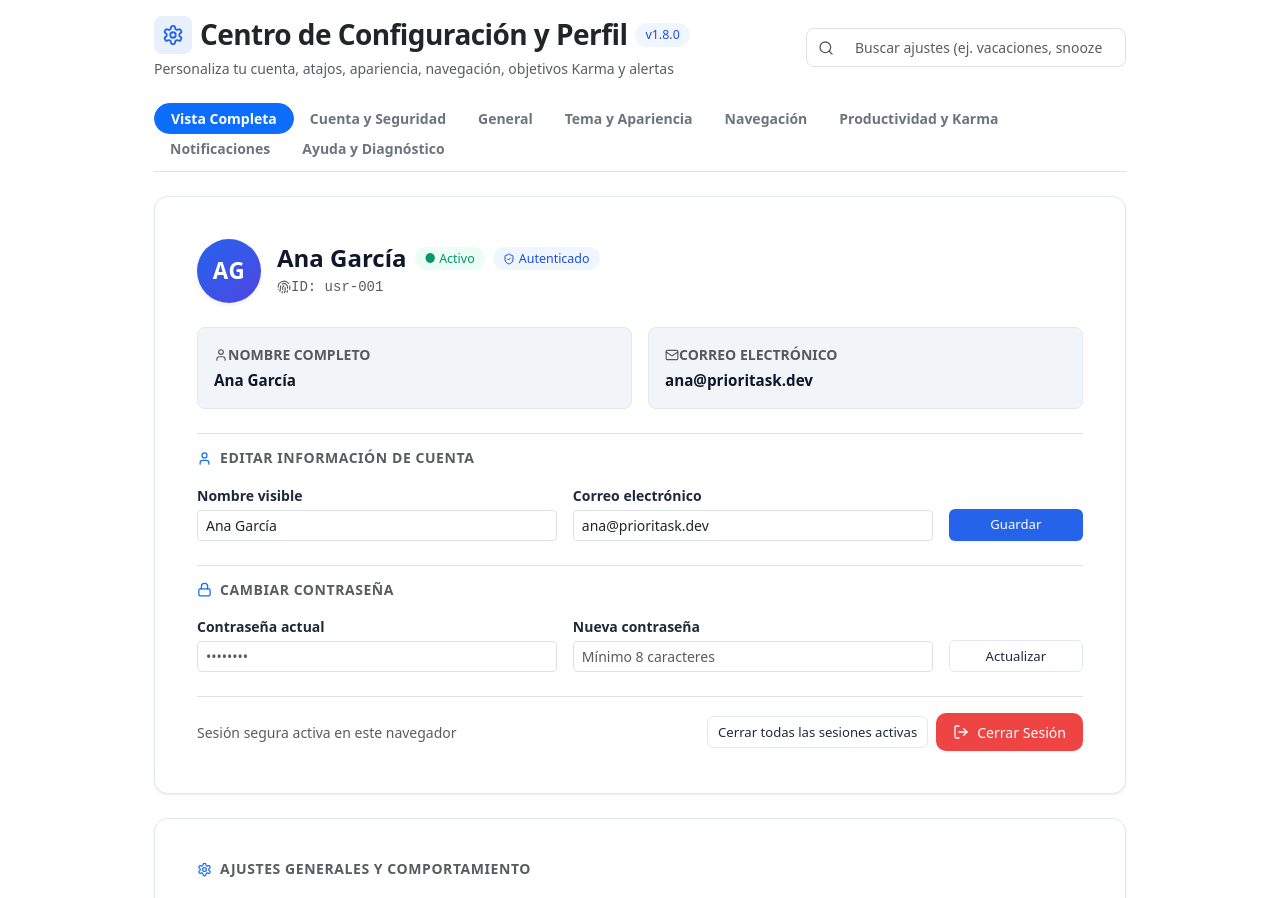
Profile Settings Workspace & Profile Center (v1.8.0) › filtra secciones mediante las pestañas de categoría y el buscador instantáneo
The image size is (1280, 898).
Expected: the element with test id "settings-section-account" is shown, [154,196,1126,794]
Seleccionar pestaña 'Productividad y Karma'
Click the tab with test id "settings-tab-productivity": (919, 118) [823,104,1014,133]
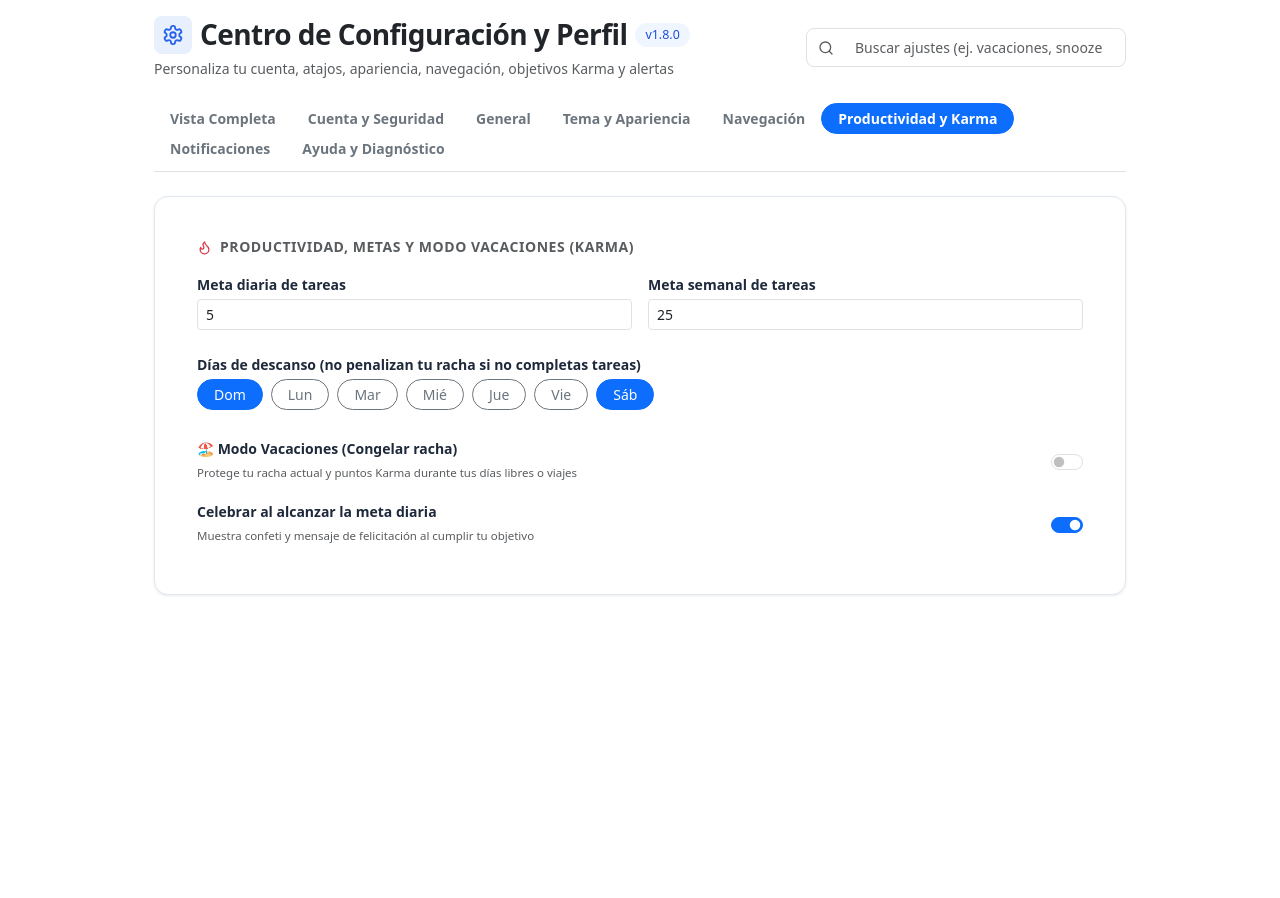
Expected: the element with test id "settings-section-productivity" is shown, [154,196,1126,595]
Expected: the element with test id "settings-section-account" is gone
In the search field with test id "settings-search-input": (966, 48) [806,28,1126,67], type "snooze"
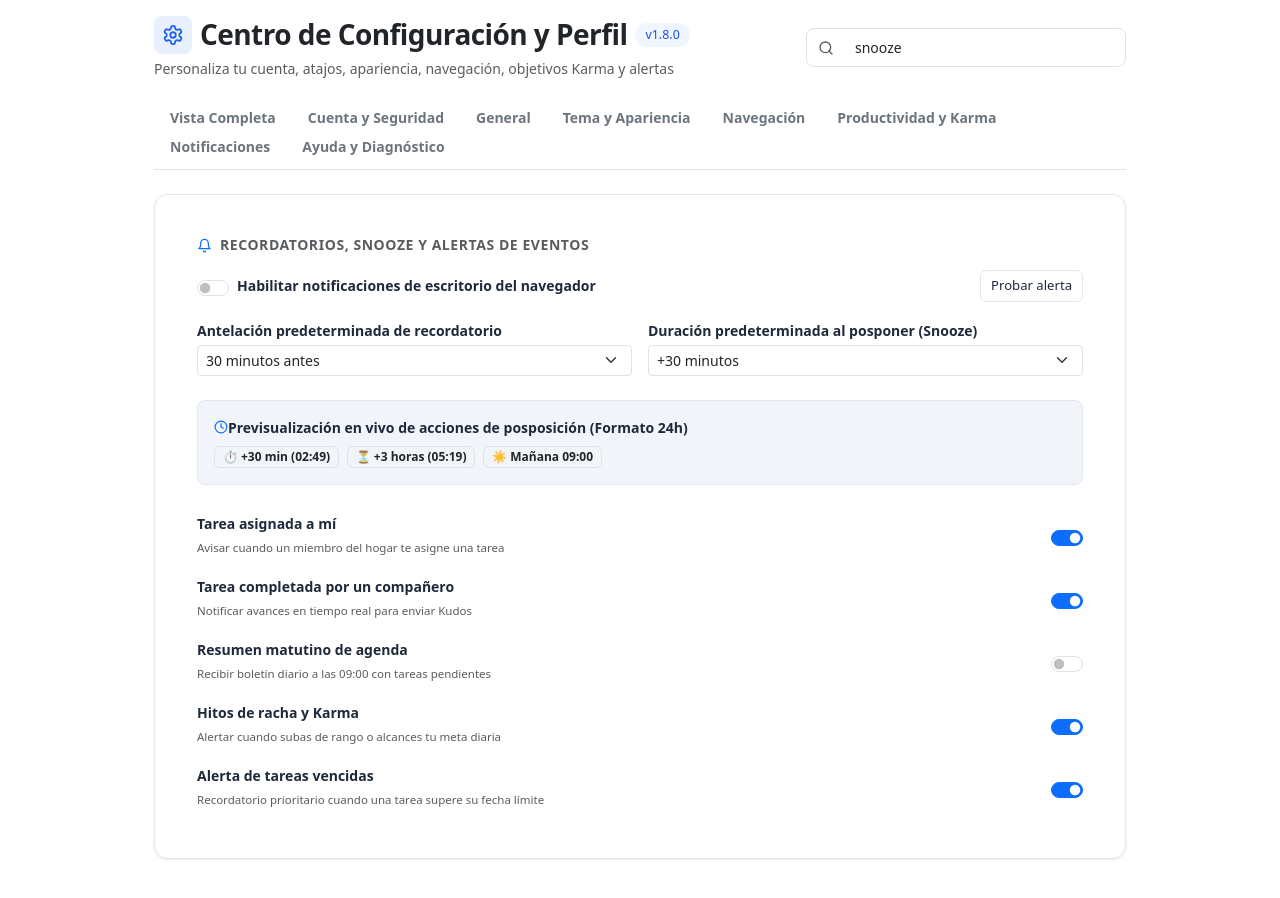
Expected: the element with test id "settings-section-notifications" is shown, [154,194,1126,859]
Expected: the element with test id "settings-section-productivity" is gone
Replace the text in the search field with test id "settings-search-input" with "vacaciones": (966, 48) [806,28,1126,67]
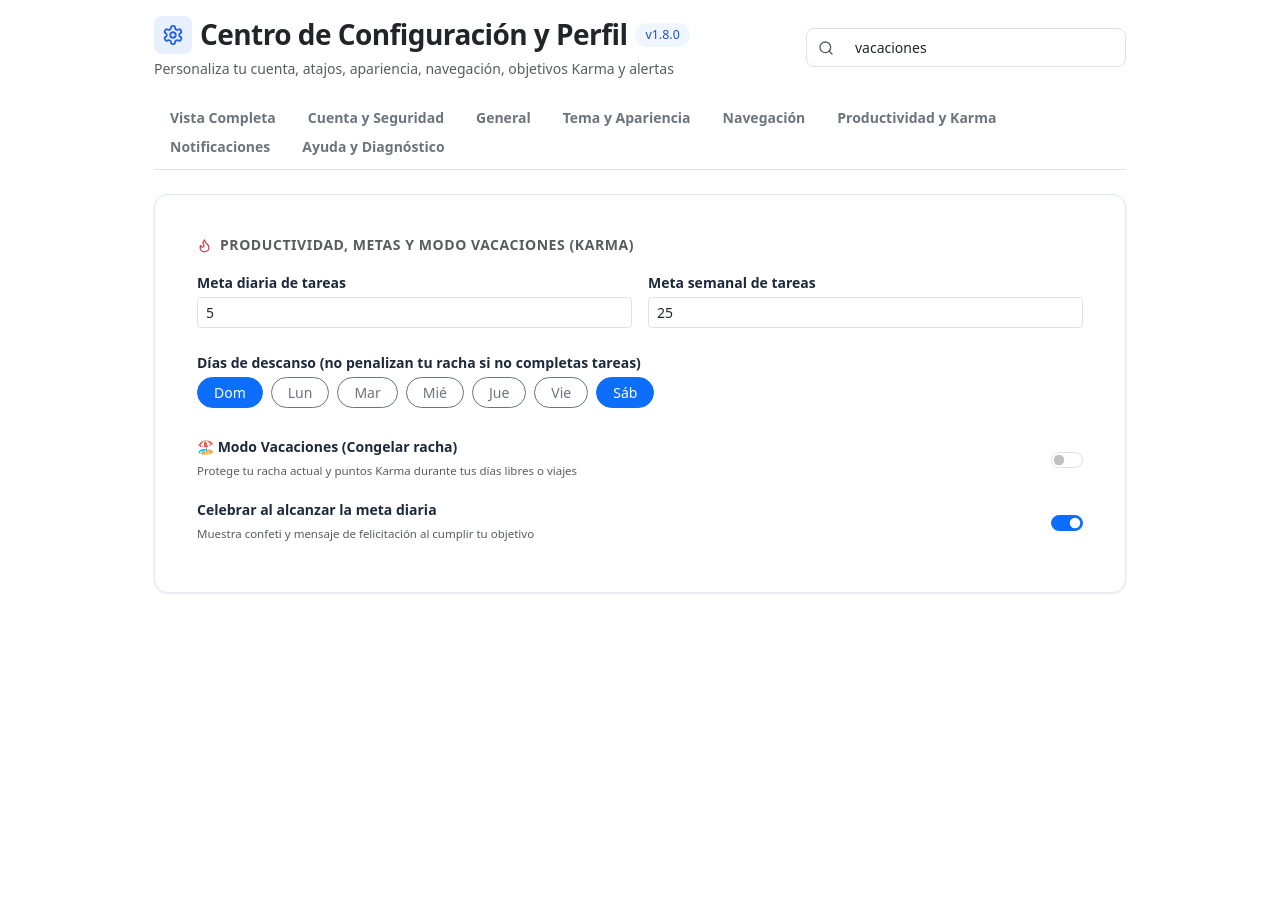
Expected: the element with test id "settings-section-productivity" is shown, [154,194,1126,593]
Expected: the element with test id "settings-section-notifications" is gone
